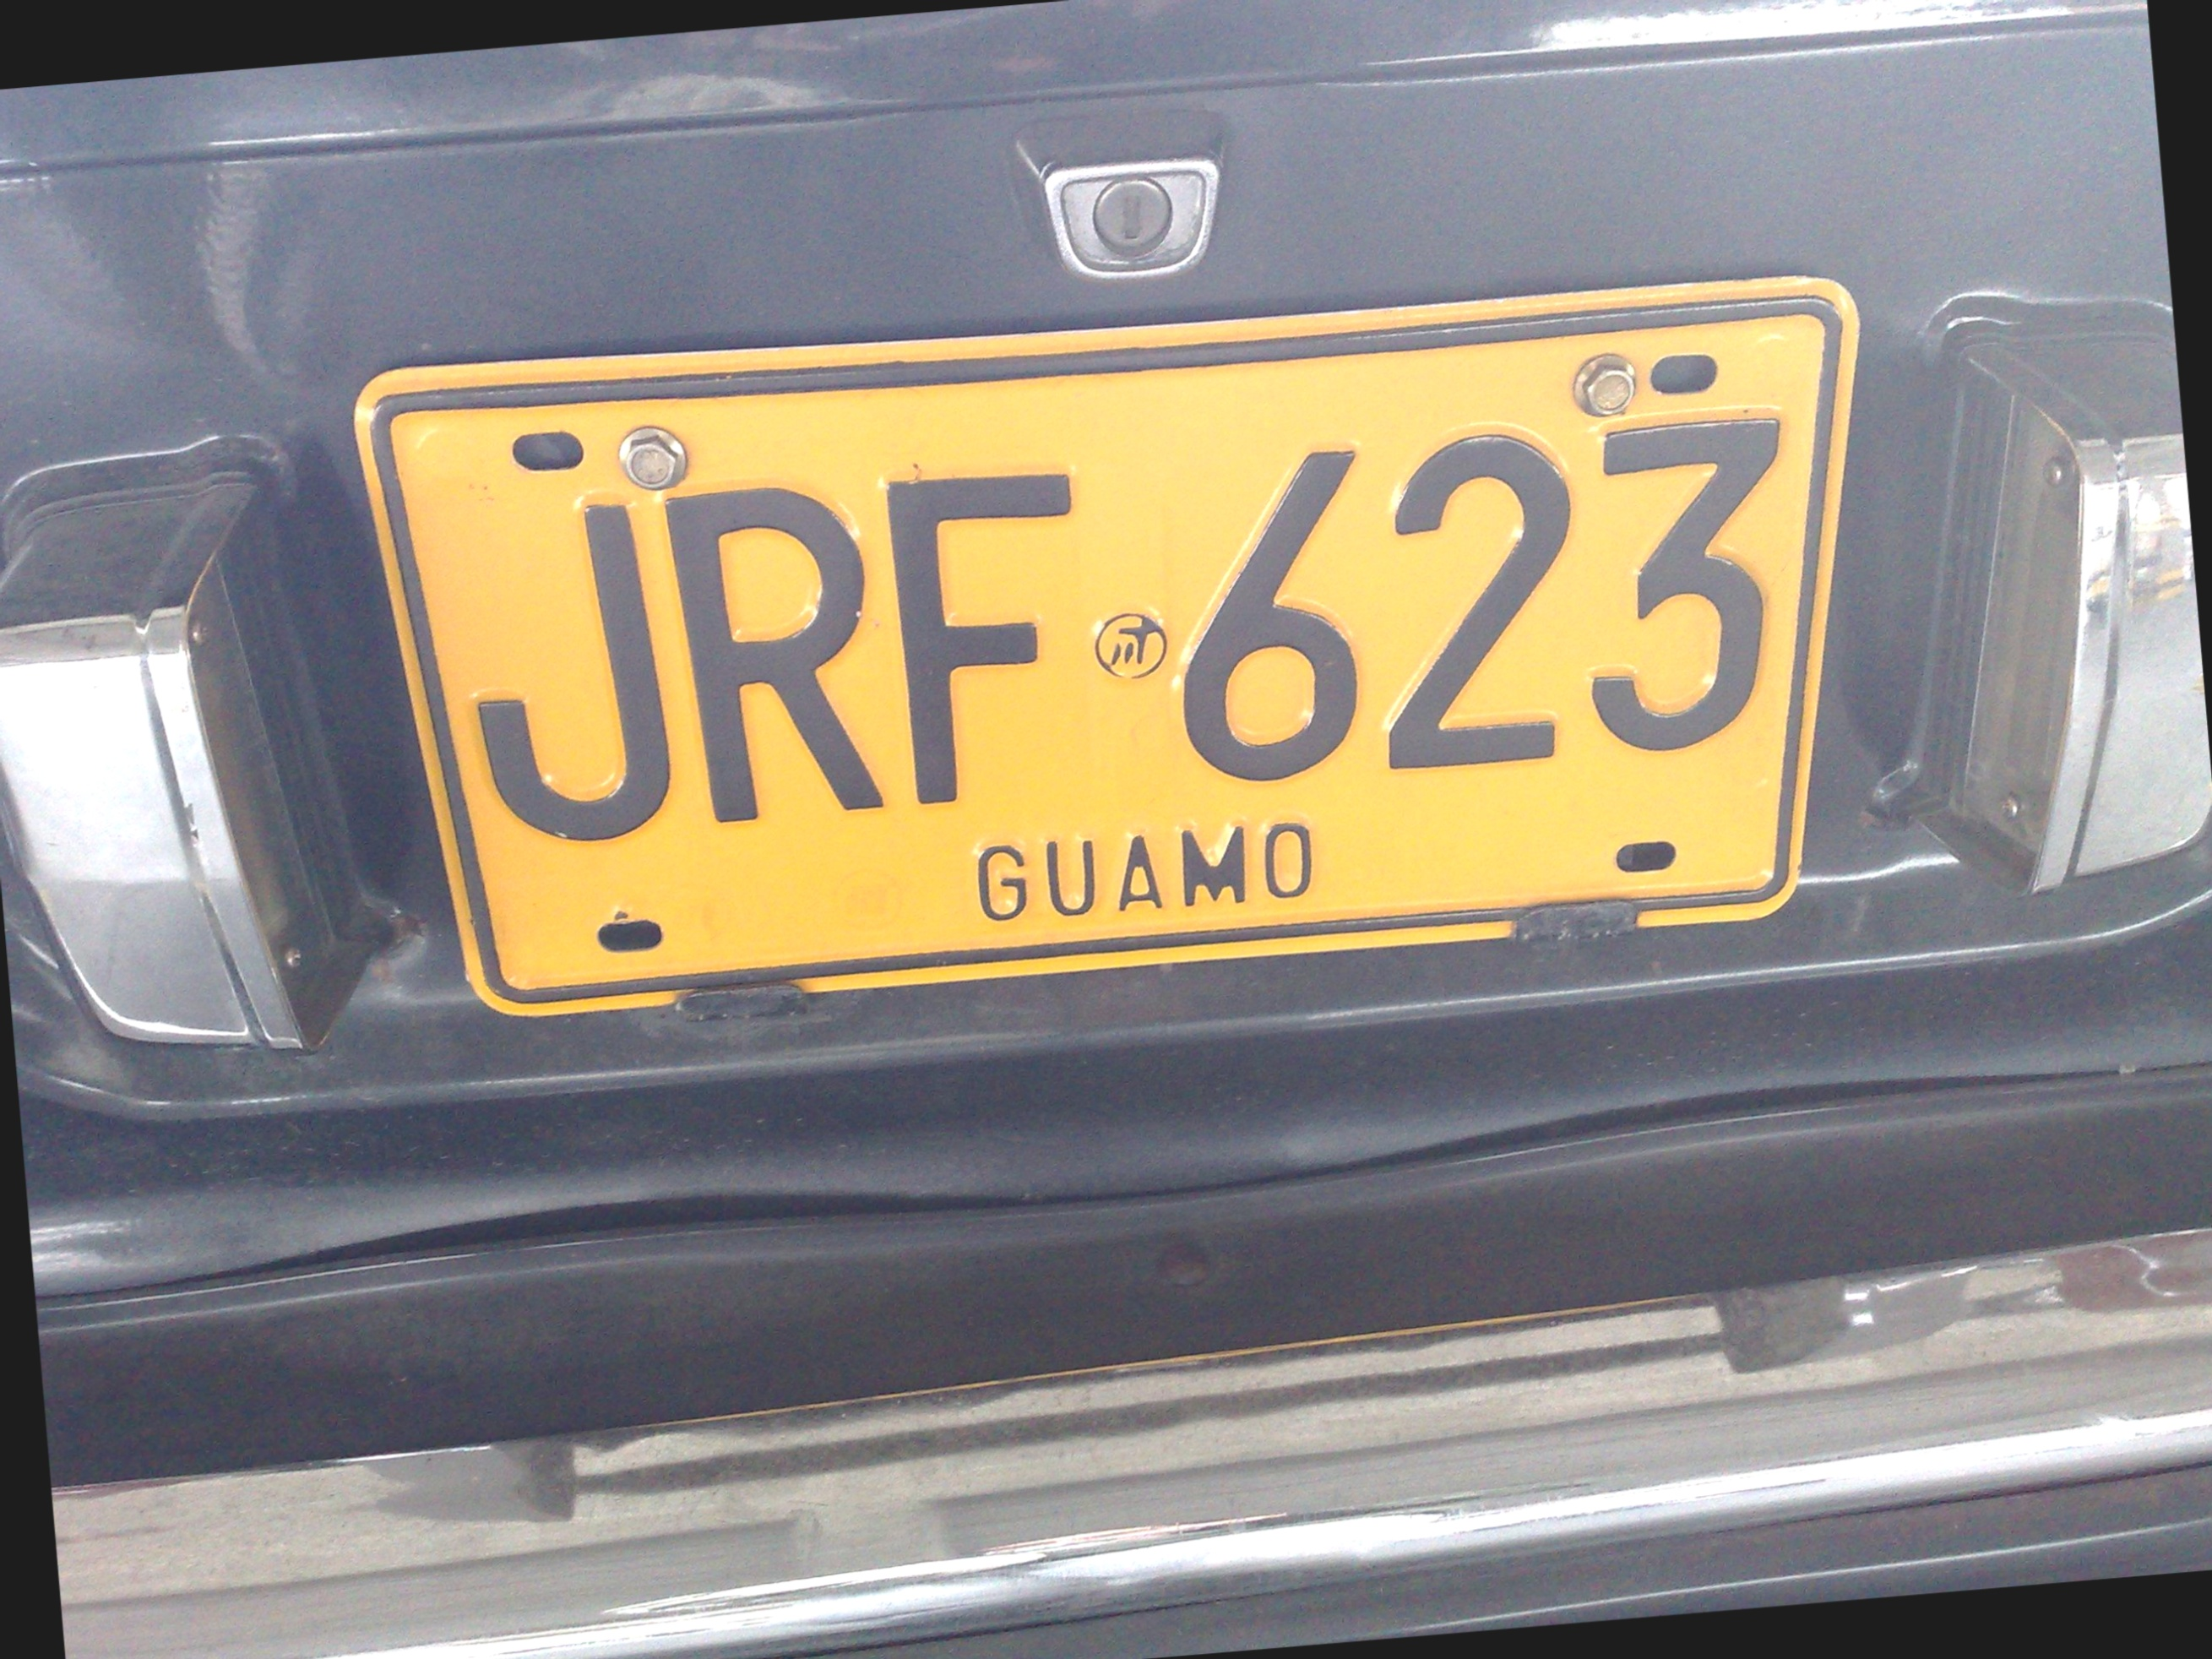placas: (322, 209, 1924, 1069)
